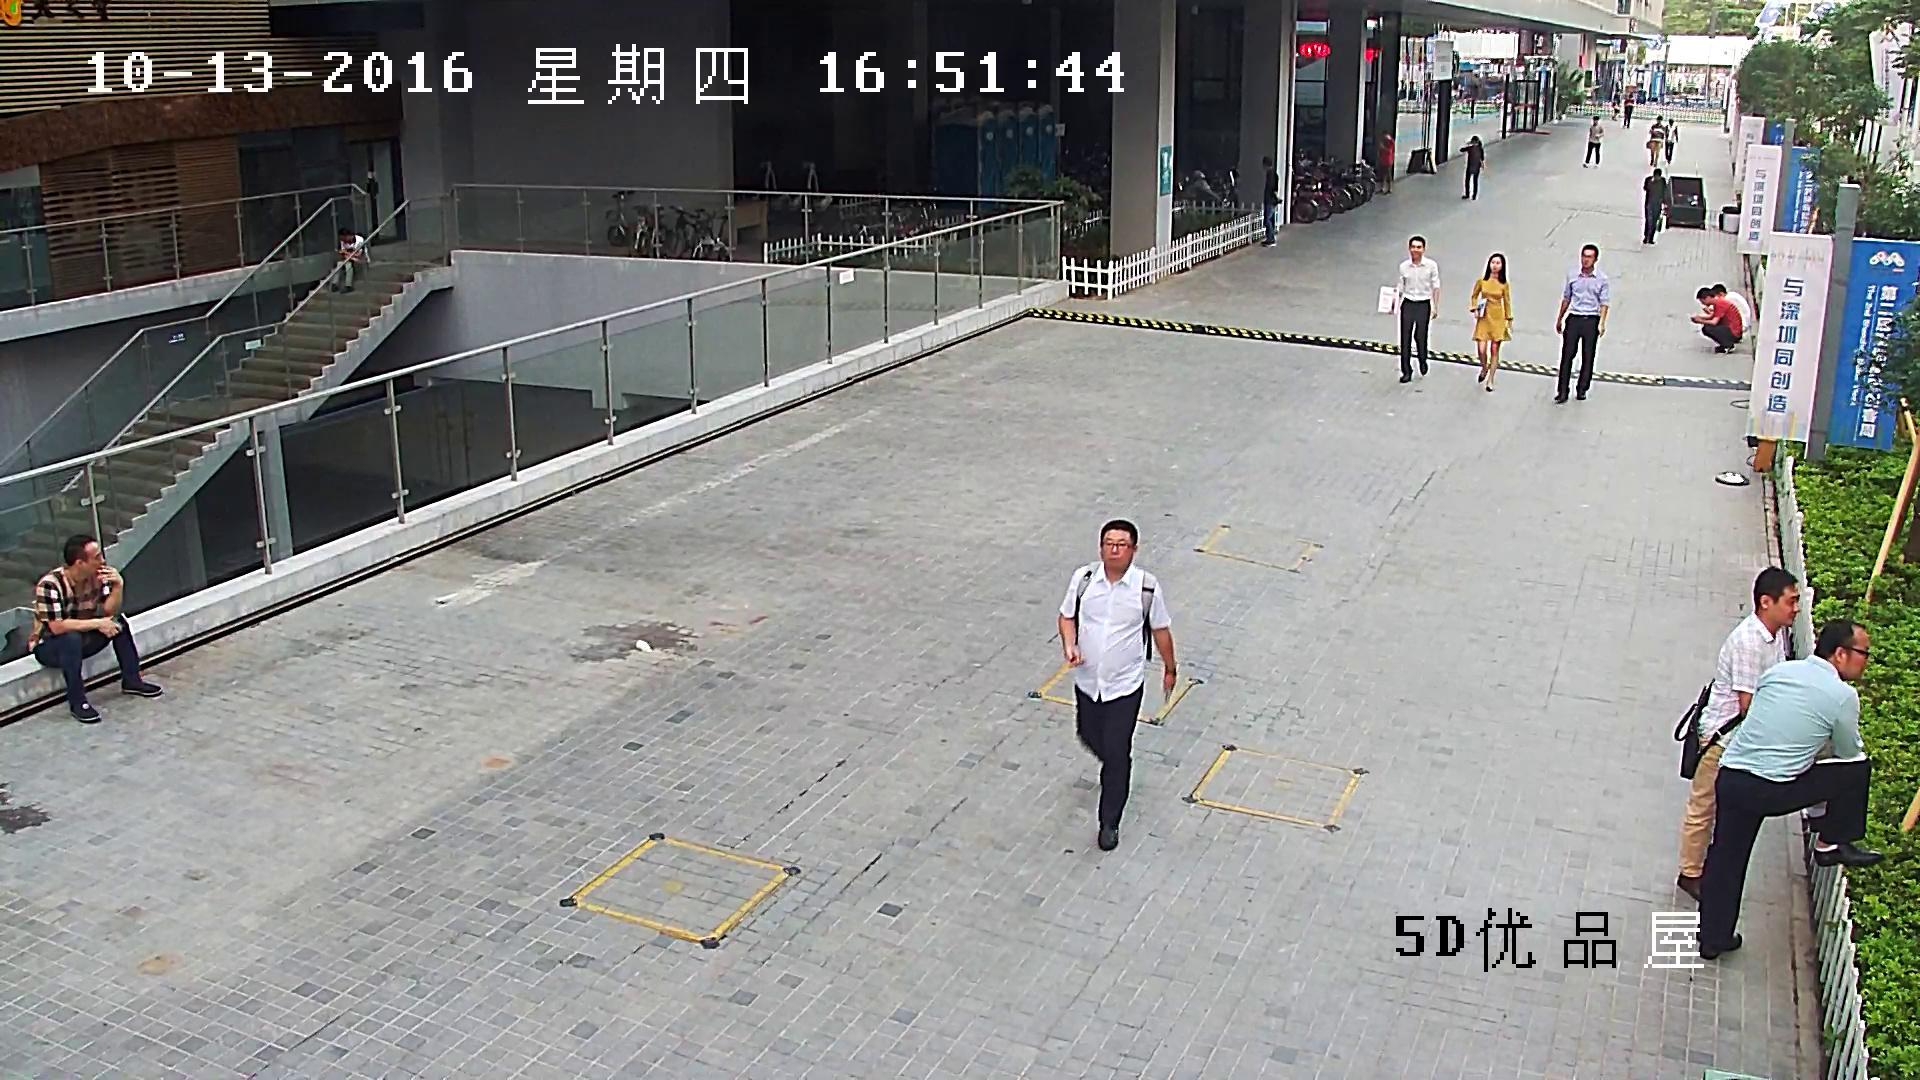person: (1698, 618, 1880, 961), (1675, 566, 1832, 904), (1058, 519, 1176, 851), (27, 534, 163, 724), (1376, 234, 1440, 383), (1553, 243, 1609, 403), (1391, 235, 1439, 382), (1470, 252, 1512, 392), (1689, 287, 1742, 353), (1701, 284, 1751, 343), (329, 228, 371, 294), (1260, 156, 1282, 247), (1643, 168, 1666, 244), (1459, 135, 1484, 201), (1375, 130, 1394, 195), (1582, 116, 1604, 168), (1646, 116, 1664, 167), (1664, 118, 1678, 164), (1623, 94, 1633, 128), (1611, 94, 1620, 121)
